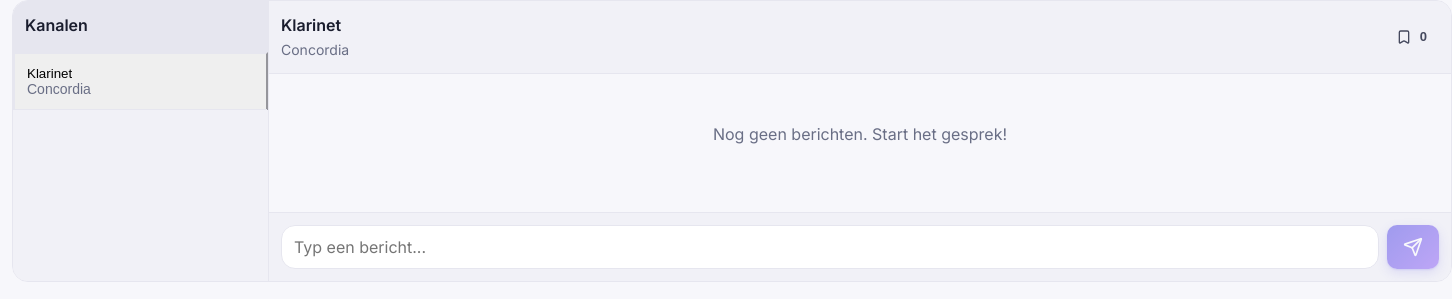
Test: een bericht versturen › houdt de verstuurknop uit tot er iets getypt is
Expected: the submit button is disabled, 1387,225 -> 1439,269
In the field with placeholder "Typ een bericht...": (830, 247) 281,225 -> 1379,269, type "Hoi"
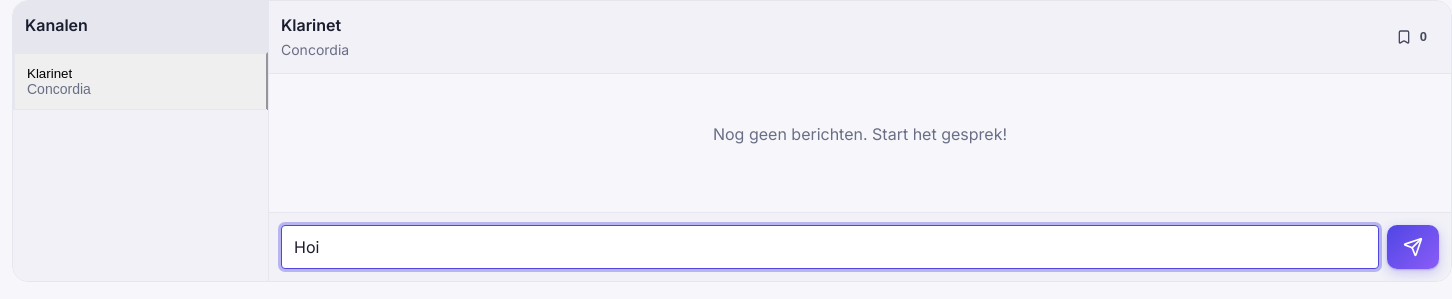
Expected: the submit button is enabled, 1387,225 -> 1439,269
